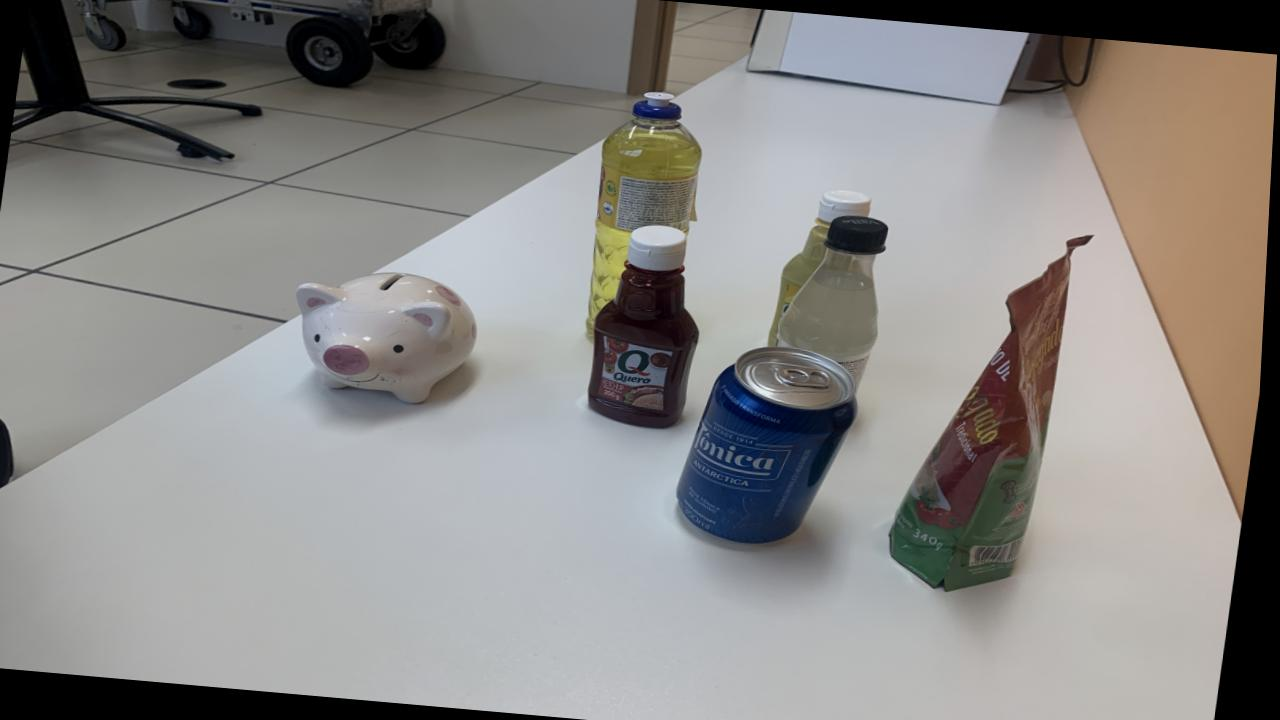Detergent-Cleanup_Items: (589, 92, 703, 340)
Ketchup-Pantry_Items: (591, 225, 702, 428)
Mustard-Pantry_Items: (770, 190, 874, 347)
Pig_Safe-Miscellaneous: (299, 272, 481, 404)
Soda-Drinks: (778, 215, 891, 384)
Tomato_Sauce-Pantry_Items: (894, 236, 1093, 591)
Tonic-Drinks: (681, 347, 863, 544)
